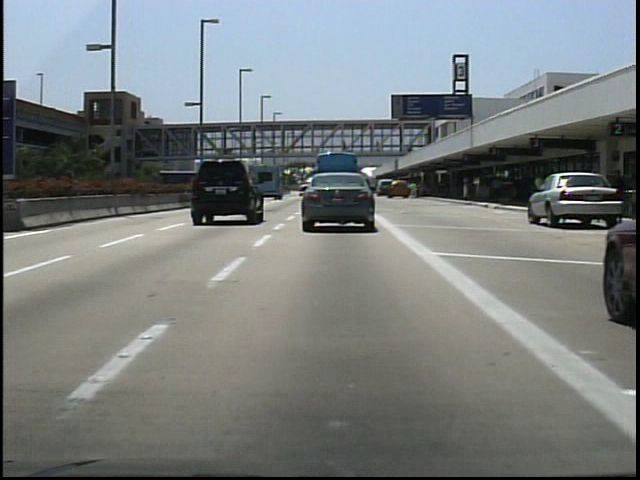person: (530, 169, 547, 210), (488, 173, 505, 205), (406, 177, 422, 205), (373, 136, 386, 158), (338, 136, 352, 156)
